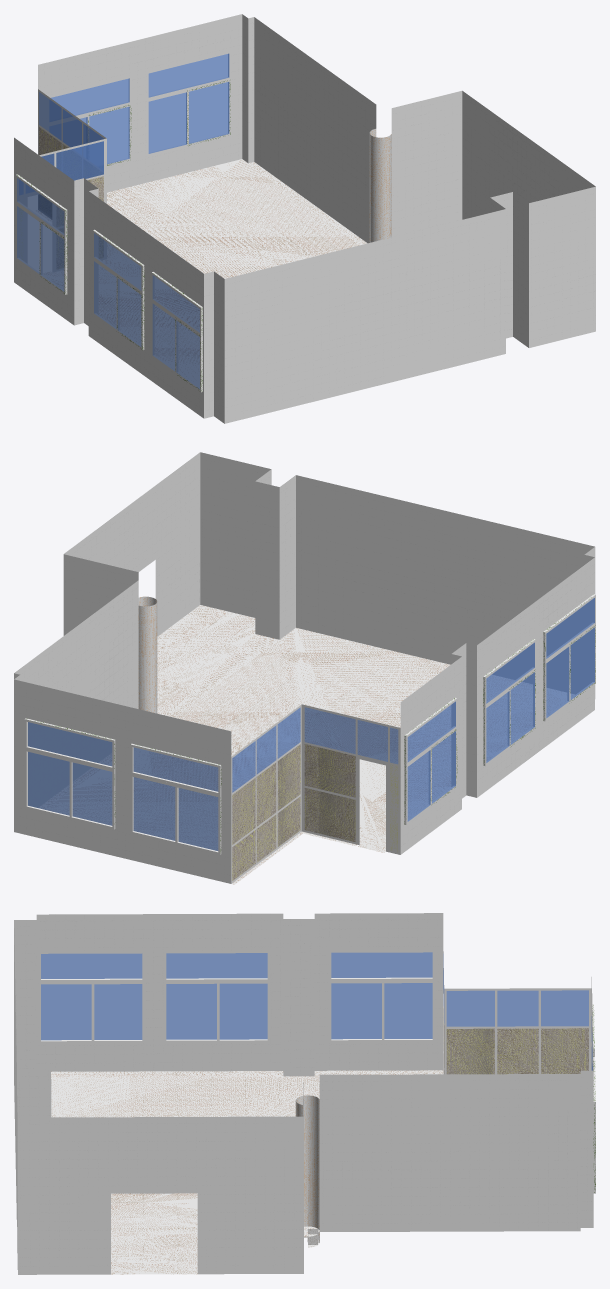
Rendered from LAB022.obj.
3 renders of one model, top to bottom at view 1: azimuth 30°, elevation 25°; view 2: azimuth 150°, elevation 25°; view 3: azimuth 270°, elevation 25°, orthographic. The views are drawn at different scales.
Visible parts, largest first — view 1: Mesh31 LAB022 Model, Mesh1 ventana1_2_1 LAB022 Model, Mesh19 ventana1_2_4 LAB022 Model, Mesh7 ventana1_2_2 LAB022 Model, Mesh13 ventana1_2_3 LAB022 Model, Mesh25 ventana1_2_5 LAB022 Model; view 2: Mesh31 LAB022 Model, Mesh1 ventana1_2_1 LAB022 Model, Mesh19 ventana1_2_4 LAB022 Model, Mesh7 ventana1_2_2 LAB022 Model, Mesh13 ventana1_2_3 LAB022 Model, Mesh25 ventana1_2_5 LAB022 Model; view 3: Mesh31 LAB022 Model, Mesh13 ventana1_2_3 LAB022 Model, Mesh7 ventana1_2_2 LAB022 Model, Mesh25 ventana1_2_5 LAB022 Model.
Part boxes in pixels (<box>): Mesh31 LAB022 Model: <box>14,14,595,423</box>; Mesh1 ventana1_2_1 LAB022 Model: <box>147,51,230,156</box>; Mesh19 ventana1_2_4 LAB022 Model: <box>47,76,131,166</box>; Mesh7 ventana1_2_2 LAB022 Model: <box>16,174,67,294</box>; Mesh13 ventana1_2_3 LAB022 Model: <box>151,272,202,392</box>; Mesh25 ventana1_2_5 LAB022 Model: <box>93,229,144,350</box>; Mesh31 LAB022 Model: <box>14,452,595,884</box>; Mesh1 ventana1_2_1 LAB022 Model: <box>24,718,115,829</box>; Mesh19 ventana1_2_4 LAB022 Model: <box>130,743,221,854</box>; Mesh7 ventana1_2_2 LAB022 Model: <box>404,697,457,824</box>; Mesh13 ventana1_2_3 LAB022 Model: <box>543,594,595,721</box>; Mesh25 ventana1_2_5 LAB022 Model: <box>483,639,535,765</box>; Mesh31 LAB022 Model: <box>14,913,593,1274</box>; Mesh13 ventana1_2_3 LAB022 Model: <box>38,951,144,1043</box>; Mesh7 ventana1_2_2 LAB022 Model: <box>329,950,434,1042</box>; Mesh25 ventana1_2_5 LAB022 Model: <box>164,951,269,1042</box>.
Size of the model in its own units: 10.08 by 3.85 by 12.07.
Materials: 11 (4 with a texture image).
